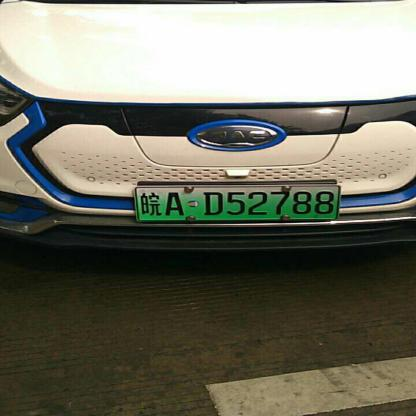lp: (133, 187, 338, 219)
